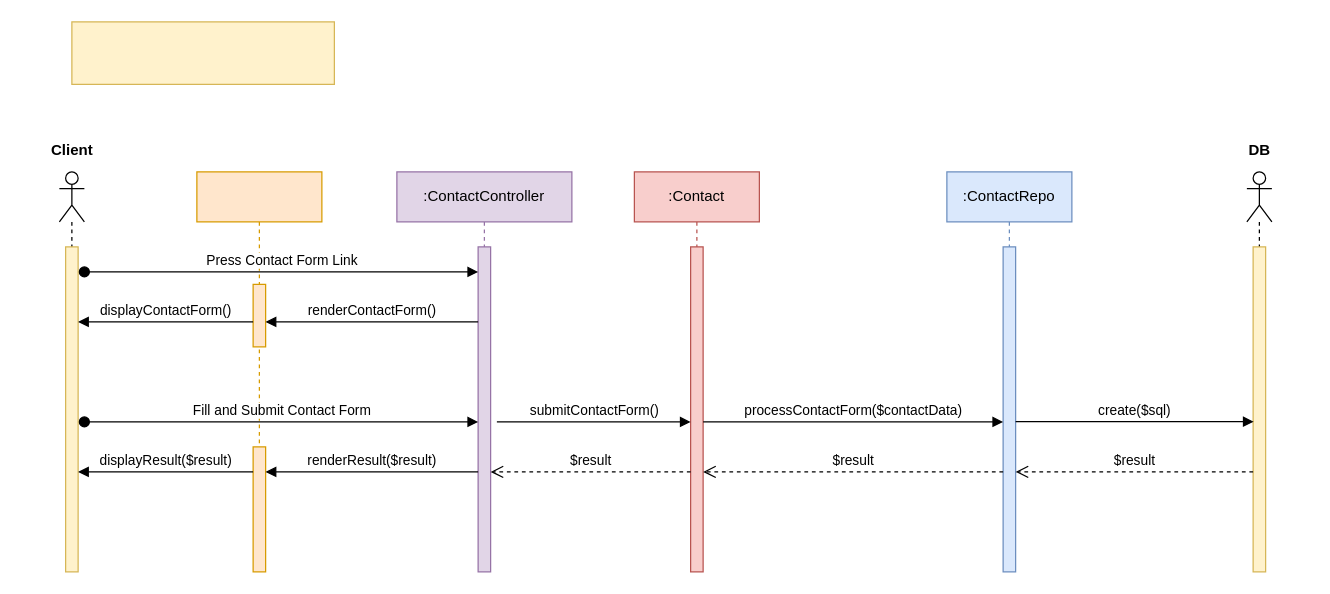
The diagram is 1330 pixels wide and 594 high, and some of its shapes have lost their labels. The shapes that lost their labels are listed below. From the top down, each one's box as (x1, y1, x2, y2) in pixels, then its label:
(71, 21, 334, 84): Create Contact
(196, 171, 322, 572): :ContactView
